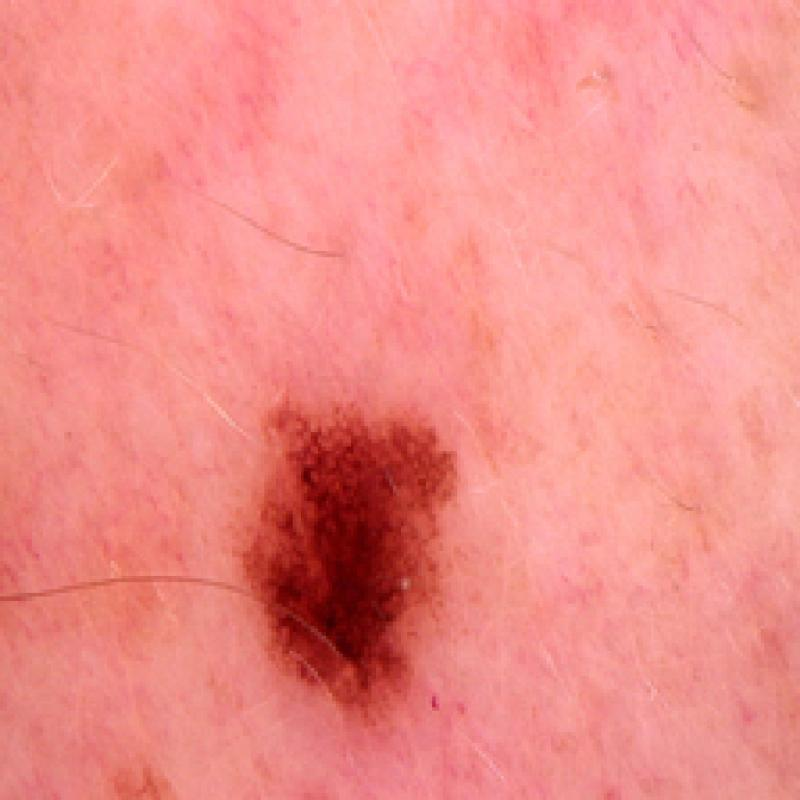benign: (229, 387, 486, 732)
